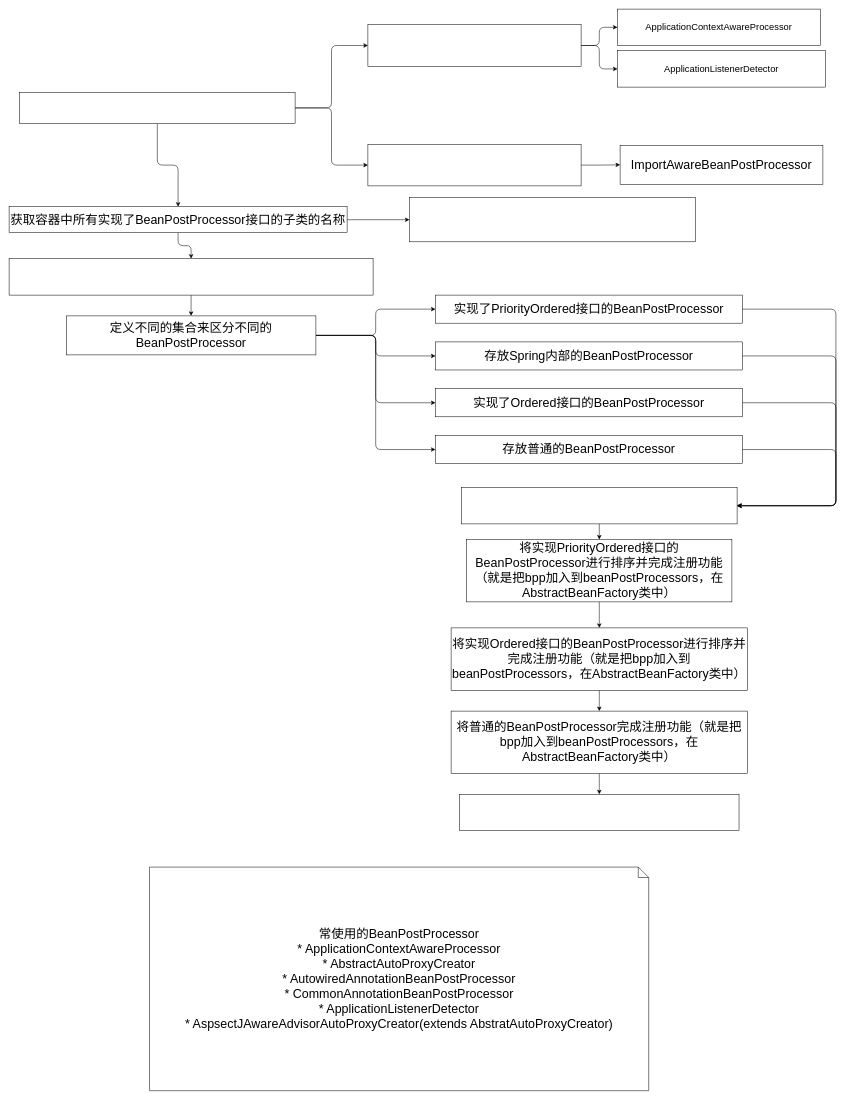
The diagram is 849 pixels wide and 1100 high, and some of its shapes have lost their labels. The centre of each missing label's shape, as x and y in pixels:
ConfigurationClassPostProcessor: (x=474, y=165)
registerBeanPostProcessor(beanFactory): (x=157, y=108)
在prepareBeanFacotry中添加BPP: (x=474, y=45)
将容器中包含的BeanPostProcessor按照不同的分类放到不同的集合中去: (x=599, y=505)
将所有spring内部的BeanPostProcessor进行排序并完成注册功能: (x=599, y=812)
添加到BeanPostProcessorChecker: (x=191, y=276)
识别到Spring中包含的对象和自定义的对象: (x=552, y=219)
